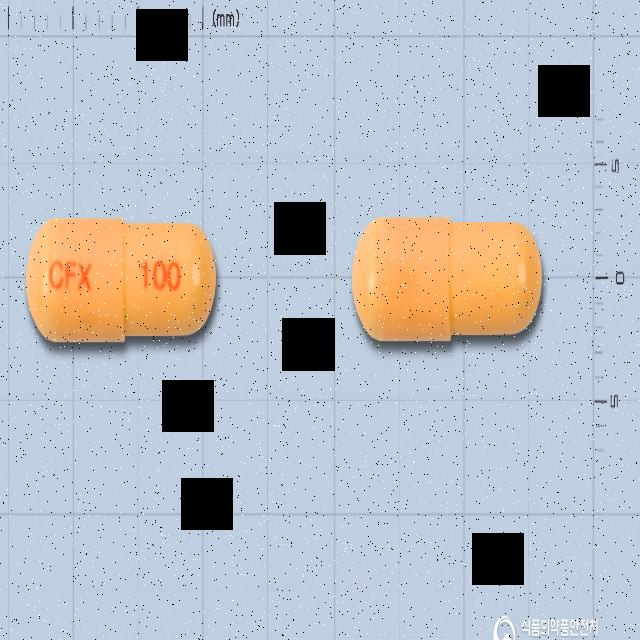Kukje Cefixime Cap: (26, 215, 217, 343)
